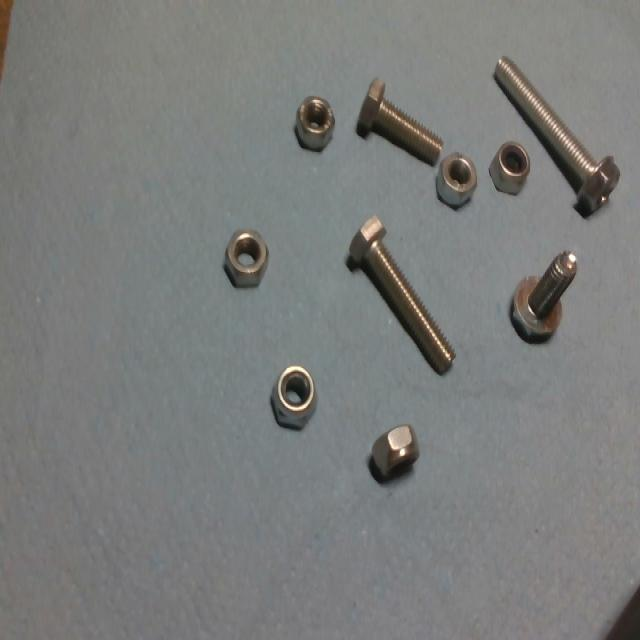Bolt: (493, 56, 618, 216), (345, 219, 454, 377), (355, 80, 444, 165), (510, 251, 576, 340)
Nut: (270, 365, 315, 431), (368, 425, 419, 480), (222, 231, 267, 292), (487, 141, 530, 196), (436, 153, 478, 208), (293, 96, 336, 149)
